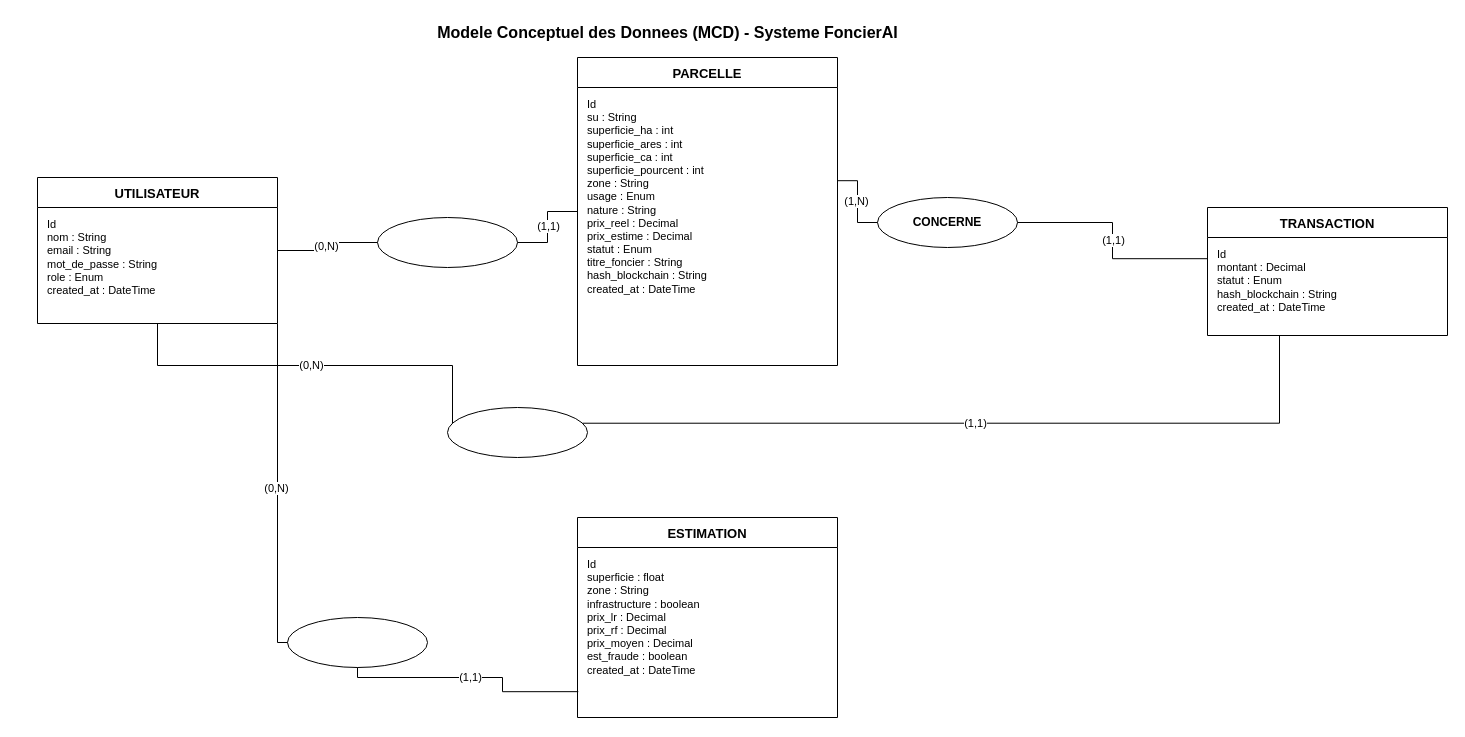
The diagram is 1465 pixels wide and 737 high, and some of its shapes have lost their labels. The shapes that lost their labels are listed below. From the top down, each one's centre as x and y in pixels, then its label:
At point (447, 242): "POSSEDE".
At point (517, 432): "REALISE".
At point (357, 642): "EFFECTUE".
